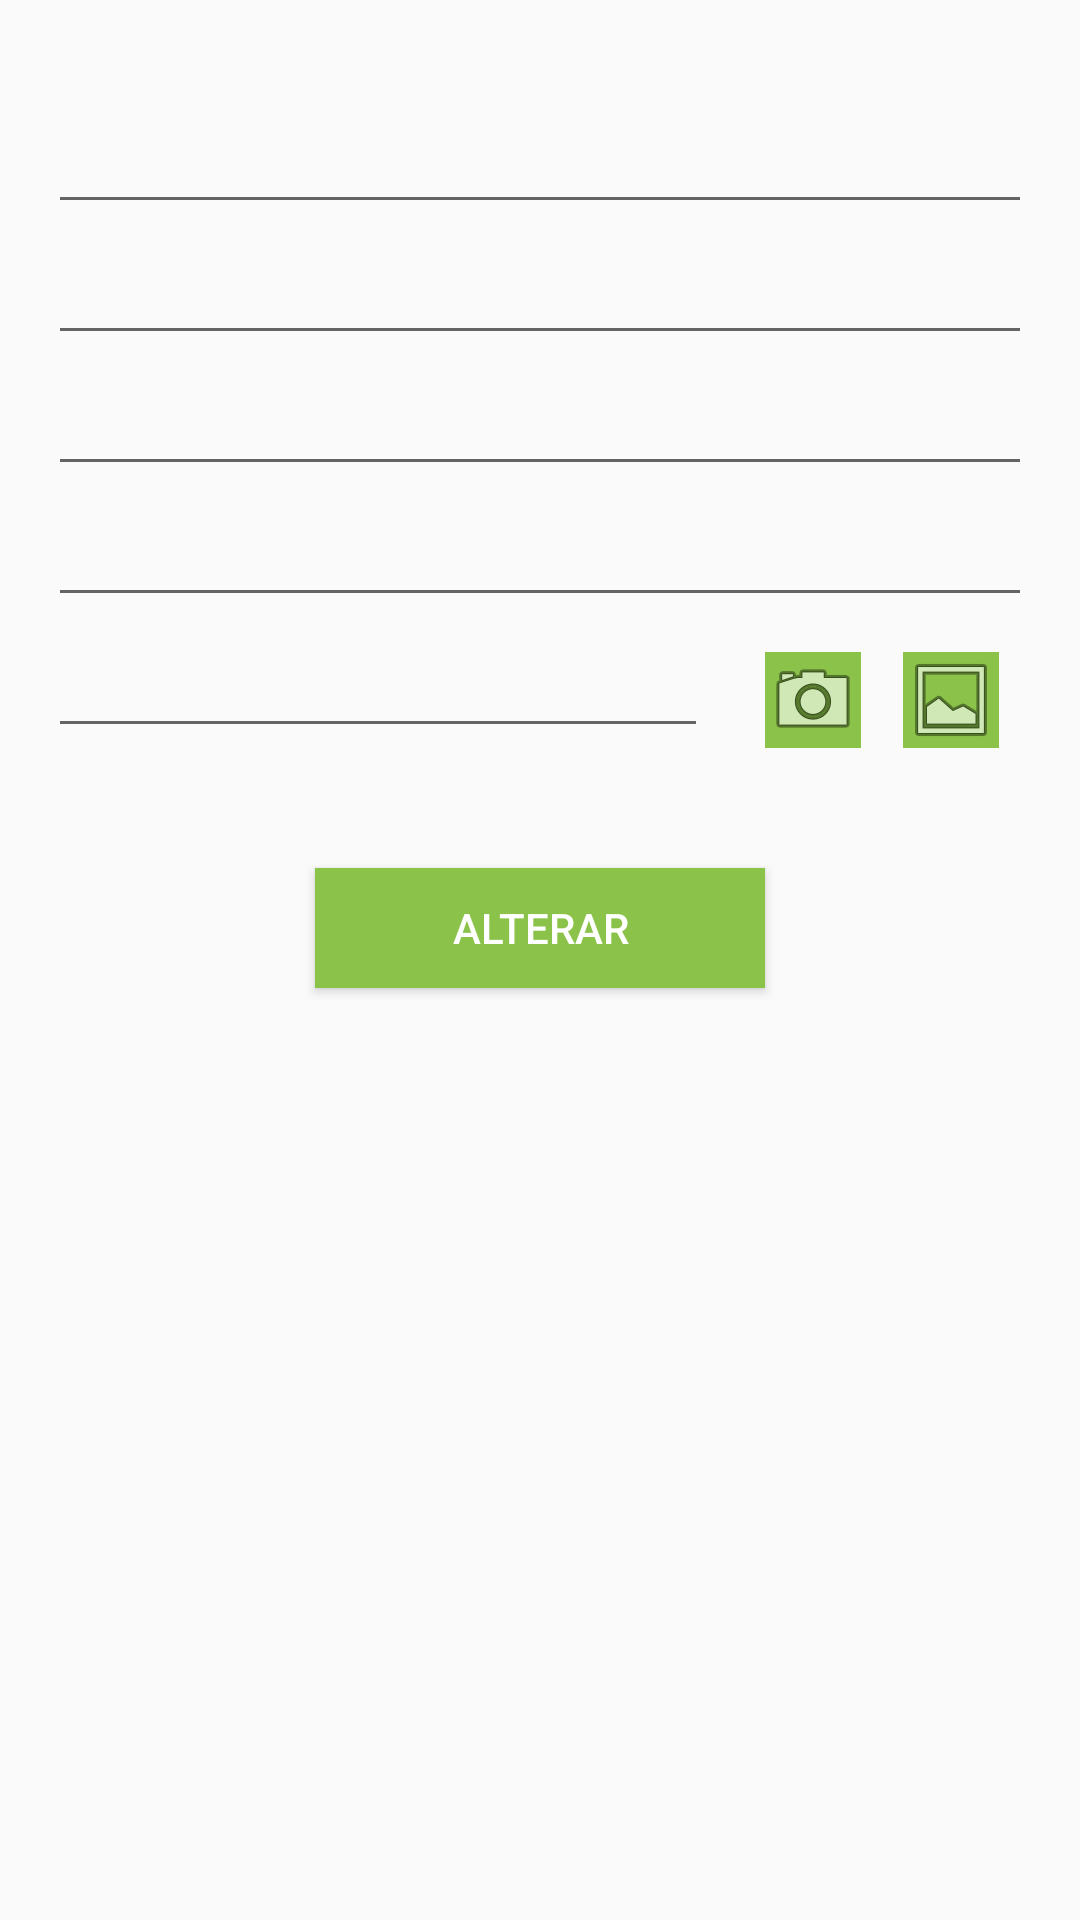

Screen size 1080w x 1920h. Icon name, then its box in pixels as (x1, y1, x2, y2):
camera: (765, 652, 861, 748)
gallery: (903, 652, 999, 748)
